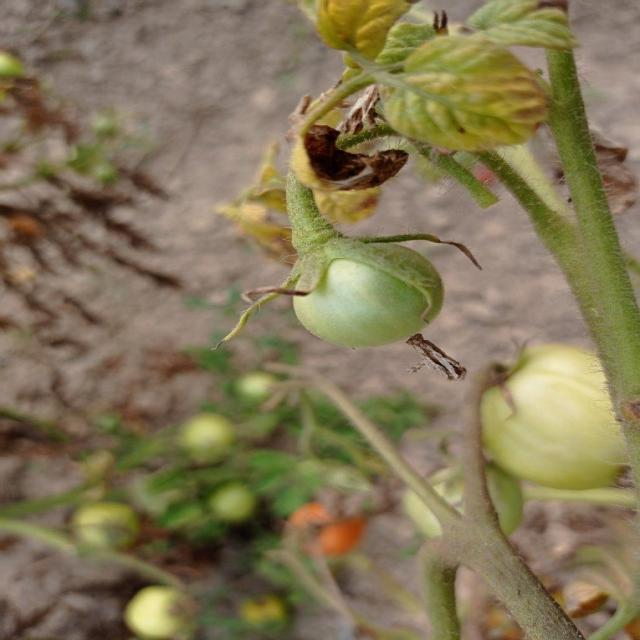Unripe: (292, 237, 442, 350)
